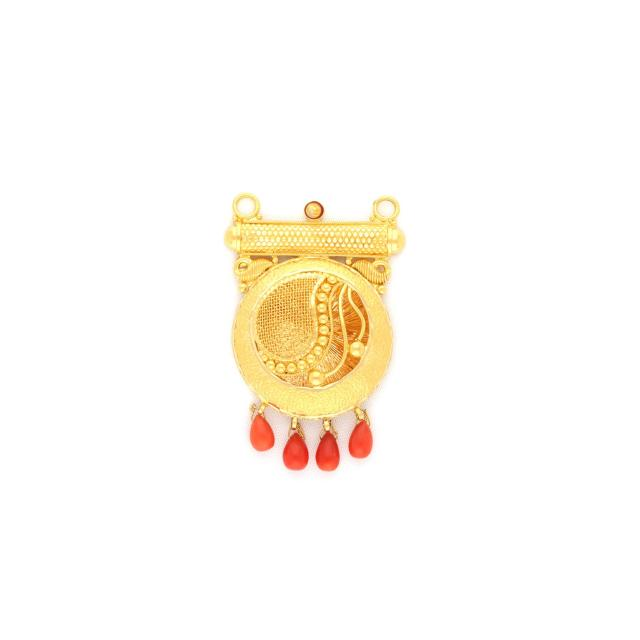missing gem: (306, 202, 323, 219)
